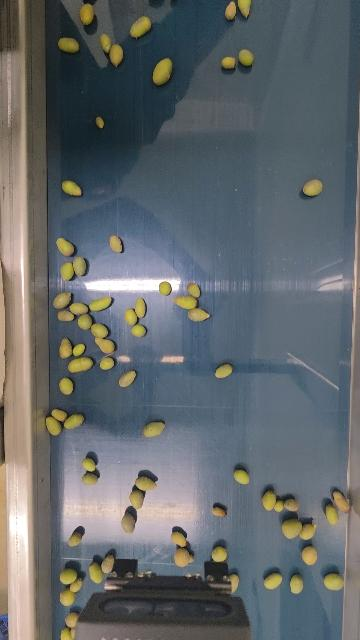Baby Potato: (152, 58, 173, 85), (63, 410, 88, 430), (323, 571, 345, 593), (130, 15, 151, 38), (173, 546, 194, 569), (332, 489, 352, 513), (281, 518, 301, 542), (67, 357, 95, 373), (89, 295, 115, 312), (141, 421, 167, 438), (261, 488, 278, 514), (78, 2, 96, 26), (57, 36, 80, 53), (67, 529, 87, 548), (89, 320, 110, 338), (172, 296, 199, 310), (133, 476, 158, 491), (61, 180, 83, 197), (93, 337, 115, 354), (56, 237, 74, 257), (46, 414, 61, 438), (169, 530, 189, 548), (290, 571, 305, 595), (302, 180, 323, 197), (301, 545, 318, 566), (233, 466, 250, 487), (51, 292, 71, 309), (324, 502, 338, 526), (88, 561, 102, 585), (118, 369, 135, 388), (264, 571, 281, 590), (59, 338, 73, 361), (122, 511, 136, 534), (73, 256, 88, 277), (110, 44, 123, 68), (187, 309, 211, 322), (130, 489, 144, 511), (187, 280, 204, 298), (50, 405, 68, 422), (59, 568, 77, 585), (59, 588, 76, 606), (58, 378, 74, 397), (211, 544, 227, 563), (300, 523, 319, 539), (60, 261, 74, 282), (68, 301, 89, 315), (133, 297, 147, 318), (237, 49, 254, 66), (76, 313, 92, 331), (129, 323, 147, 339), (237, 0, 252, 18), (109, 234, 123, 253), (99, 32, 111, 54), (101, 554, 114, 574), (285, 496, 301, 512), (230, 571, 241, 594), (215, 364, 233, 378), (64, 609, 78, 627), (221, 54, 236, 70), (99, 356, 115, 371), (82, 456, 96, 473), (82, 471, 99, 485), (211, 505, 228, 519), (225, 1, 237, 20), (158, 280, 172, 296), (70, 577, 84, 593), (125, 308, 137, 326), (57, 310, 74, 322), (72, 343, 86, 356), (275, 494, 284, 513), (60, 626, 70, 640), (96, 116, 104, 129), (70, 627, 76, 639)
